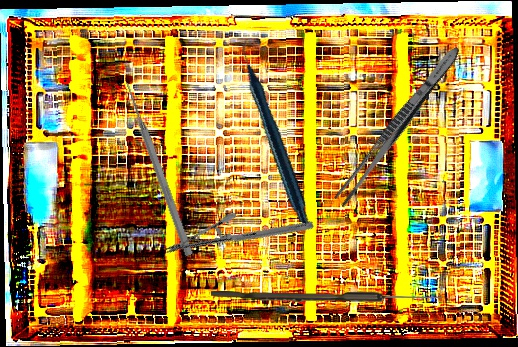Dressing Forceps: (331, 42, 465, 210)
Handpiece: (198, 38, 355, 225)
Needle Holder: (162, 164, 317, 311)
Pusher: (121, 80, 196, 258)
Surgical Spoon: (211, 291, 442, 302)
